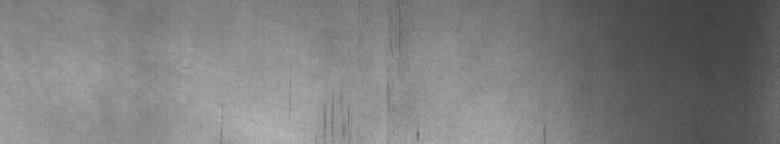ka: (324, 104, 350, 128)
